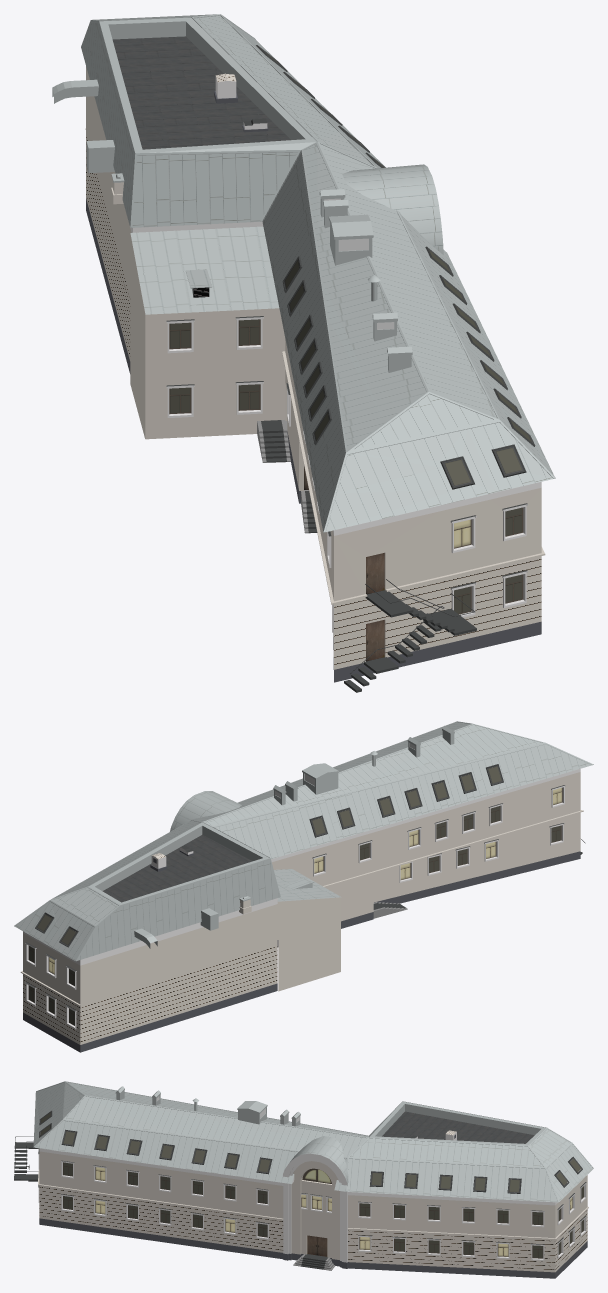
Rendered from Home2.FBX.
The picture shows the model from 3 angles, top to bottom: view 1: azimuth 30°, elevation 25°; view 2: azimuth 150°, elevation 25°; view 3: azimuth 270°, elevation 25°; orthographic projection. The views are drawn at different scales.
Visible parts, largest first — view 1: 01020-50@89766; view 2: 01020-50@89766; view 3: 01020-50@89766.
Boxes of the visible parts, bbox=[...] form: 01020-50@89766: bbox=[52, 14, 555, 692]; 01020-50@89766: bbox=[14, 721, 593, 1052]; 01020-50@89766: bbox=[14, 1081, 593, 1278].
Bounding box in the file's own units: 26.05 × 13.91 × 57.54.
1 material, 1 textured.
